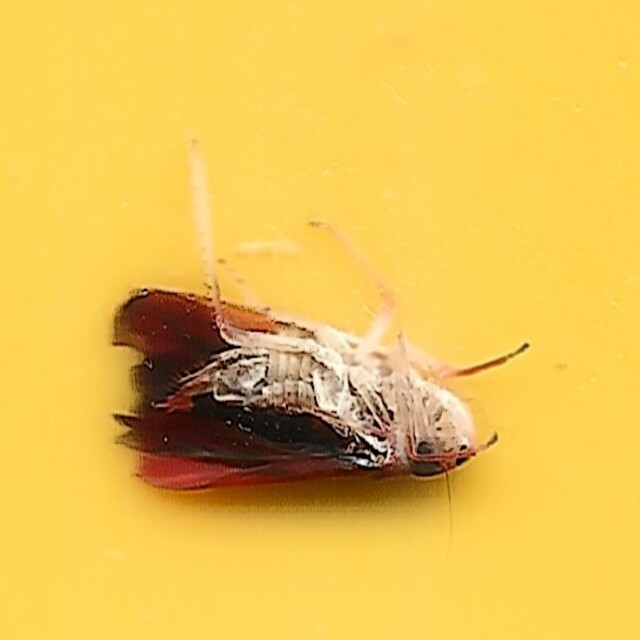Hemiptera: (108, 136, 532, 504)
